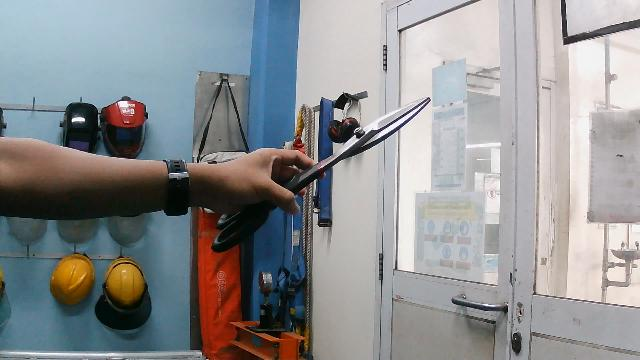gunting_plat: (189, 72, 447, 259)
